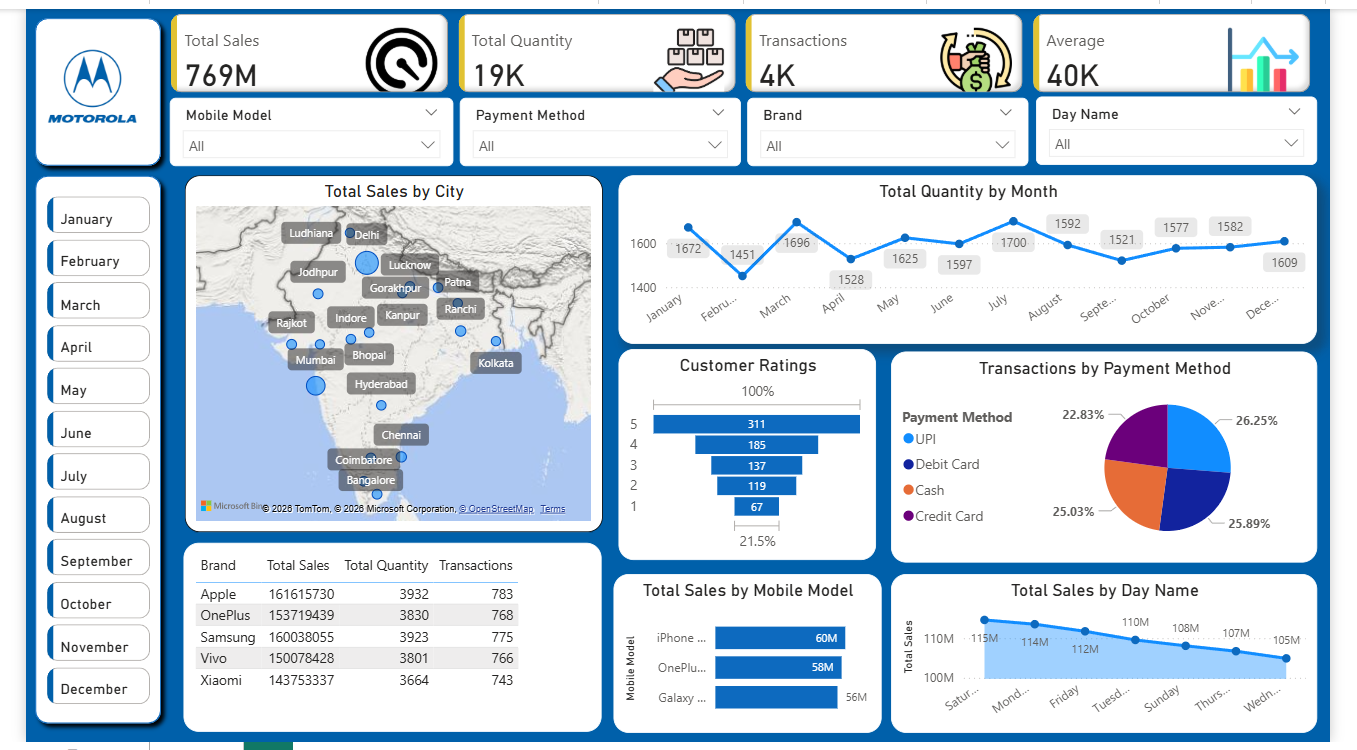

The dashboard page shown, as its layout file describes it:
{"tool":"powerbi","page":{"name":"Page 1","canvas":[1280,720],"ordinal":0},"visuals":[{"type":"shape","box":[0,0,141.4,162.9],"z":0},{"type":"image","box":[15.7,31.4,98.6,88.6],"z":1000},{"type":"shape","box":[0,154.3,141.4,555.7],"z":2000},{"type":"advancedSlicerVisual","fields":{"Values":["Sales Data.Date.Variation.Date Hierarchy.Month"]},"box":[15.7,178.6,111.4,514.3],"z":3000},{"type":"cardVisual","fields":{"Data":["Sales Data.Total Sales","Sales Data.Total Quantity","Sales Data.Transactions","Sales Data.Average"]},"box":[137.1,0,1130,87],"z":4000},{"type":"map","fields":{"Category":["Sales Data.City"],"Size":["Sales Data.Total Sales"]},"box":[155.7,162.9,410,350],"z":5000},{"type":"lineChart","fields":{"Category":["Sales Data.Date.Variation.Date Hierarchy.Month"],"Y":["Sales Data.Total Quantity"]},"box":[581.4,162.9,685.7,165.7],"z":6000},{"type":"clusteredBarChart","fields":{"Category":["Sales Data.Mobile Model"],"Y":["Sales Data.Total Sales"]},"box":[577.1,554.3,262.9,155.7],"z":7000},{"type":"pieChart","fields":{"Category":["Sales Data.Payment Method"],"Y":["Sales Data.Transactions"]},"box":[848.6,335.7,418.6,207.1],"z":8000},{"type":"funnel","title":"Customer Ratings","fields":{"Category":["Sales Data.Customer Ratings"],"Y":["CountNonNull(Sales Data.Customer Ratings)"]},"box":[581.4,334.3,252.9,207.1],"z":9000},{"type":"areaChart","fields":{"Category":["Sales Data.Day Name"],"Y":["Sales Data.Total Sales"]},"box":[848.6,554.3,418.6,155.7],"z":10000},{"type":"tableEx","fields":{"Values":["Sales Data.Brand","Sales Data.Total Sales","Sales Data.Total Quantity","Sales Data.Transactions"]},"box":[154.3,524.3,410,185.7],"z":11000},{"type":"slicer","fields":{"Values":["Sales Data.Mobile Model"]},"box":[141.4,87.1,278.6,67.1],"z":12000},{"type":"slicer","fields":{"Values":["Sales Data.Brand"]},"box":[708.6,87.1,275.7,67.1],"z":13000},{"type":"slicer","fields":{"Values":["Sales Data.Payment Method"]},"box":[425.7,87.1,275.7,67.1],"z":14000},{"type":"slicer","fields":{"Values":["Sales Data.Day Name"]},"box":[991.4,85.7,275.7,67.1],"z":15000}]}

Visuals, with their boxes in screenshot pixels (x1, y1, x2, y2), scaled from the page's 1280x720 canvas onto the 1357x750 screenshot:
shape: pyautogui.locateOnScreen(0, 0, 150, 170)
image: pyautogui.locateOnScreen(17, 33, 121, 125)
shape: pyautogui.locateOnScreen(0, 161, 150, 740)
advancedSlicerVisual - Sales Data.Date.Variation.Date Hierarchy.Month: pyautogui.locateOnScreen(17, 186, 135, 722)
cardVisual - Sales Data.Total Sales x Sales Data.Total Quantity: pyautogui.locateOnScreen(145, 0, 1343, 91)
map - Sales Data.City x Sales Data.Total Sales: pyautogui.locateOnScreen(165, 170, 600, 534)
lineChart - Sales Data.Date.Variation.Date Hierarchy.Month x Sales Data.Total Quantity: pyautogui.locateOnScreen(616, 170, 1343, 342)
clusteredBarChart - Sales Data.Mobile Model x Sales Data.Total Sales: pyautogui.locateOnScreen(612, 577, 891, 740)
pieChart - Sales Data.Payment Method x Sales Data.Transactions: pyautogui.locateOnScreen(900, 350, 1343, 565)
"Customer Ratings" funnel: pyautogui.locateOnScreen(616, 348, 884, 564)
areaChart - Sales Data.Day Name x Sales Data.Total Sales: pyautogui.locateOnScreen(900, 577, 1343, 740)
tableEx - Sales Data.Brand x Sales Data.Total Sales: pyautogui.locateOnScreen(164, 546, 598, 740)
slicer - Sales Data.Mobile Model: pyautogui.locateOnScreen(150, 91, 445, 161)
slicer - Sales Data.Brand: pyautogui.locateOnScreen(751, 91, 1044, 161)
slicer - Sales Data.Payment Method: pyautogui.locateOnScreen(451, 91, 744, 161)
slicer - Sales Data.Day Name: pyautogui.locateOnScreen(1051, 89, 1343, 159)
